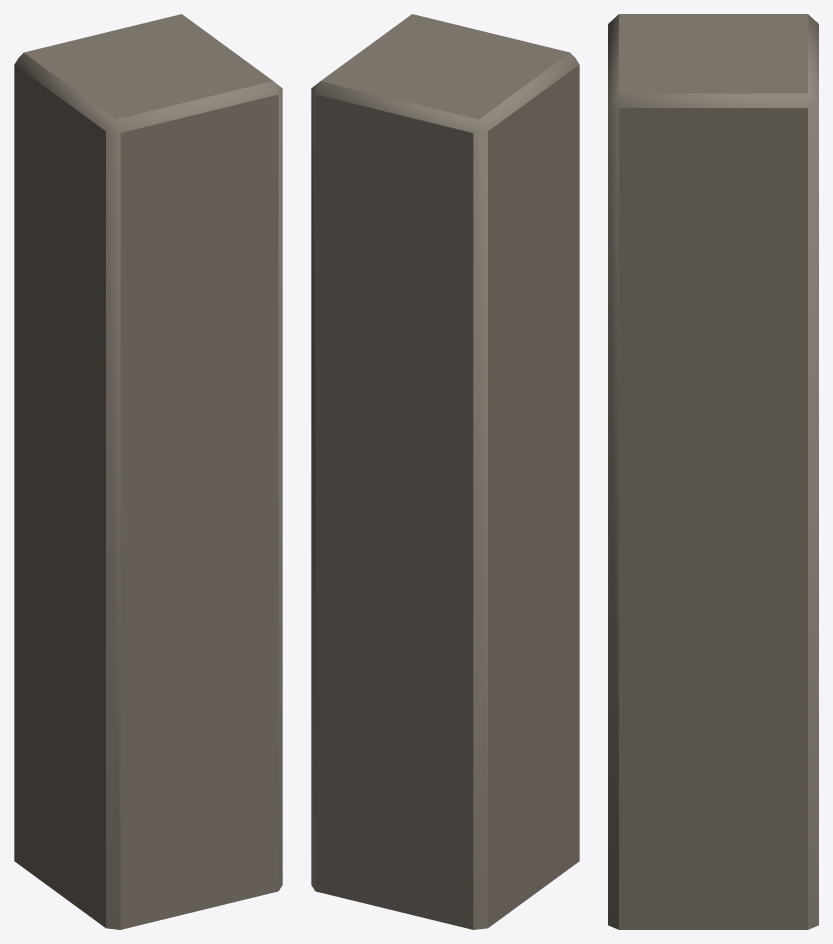
The model's file is Pilar_A_1.obj.
3 renders of one model, left to right at view 1: azimuth 30°, elevation 25°; view 2: azimuth 150°, elevation 25°; view 3: azimuth 270°, elevation 25°, orthographic. The views are drawn at different scales.
Visible parts, largest first — view 1: Pilar_A_1; view 2: Pilar_A_1; view 3: Pilar_A_1.
Part boxes in pixels (x1,y1,x2,y2): Pilar_A_1: (14, 14, 282, 929); Pilar_A_1: (311, 14, 579, 929); Pilar_A_1: (608, 14, 818, 929).
Bounding box in the file's own units: 0.5496 × 2.4 × 0.551.
